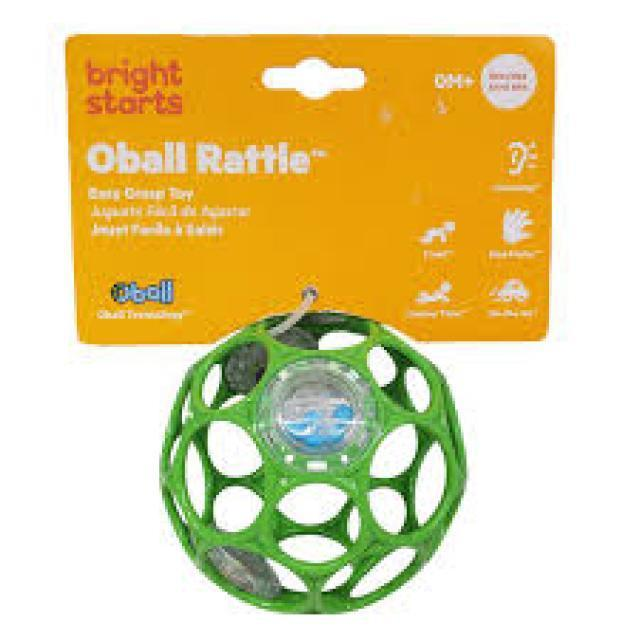hard-toy: (162, 312, 467, 614)
